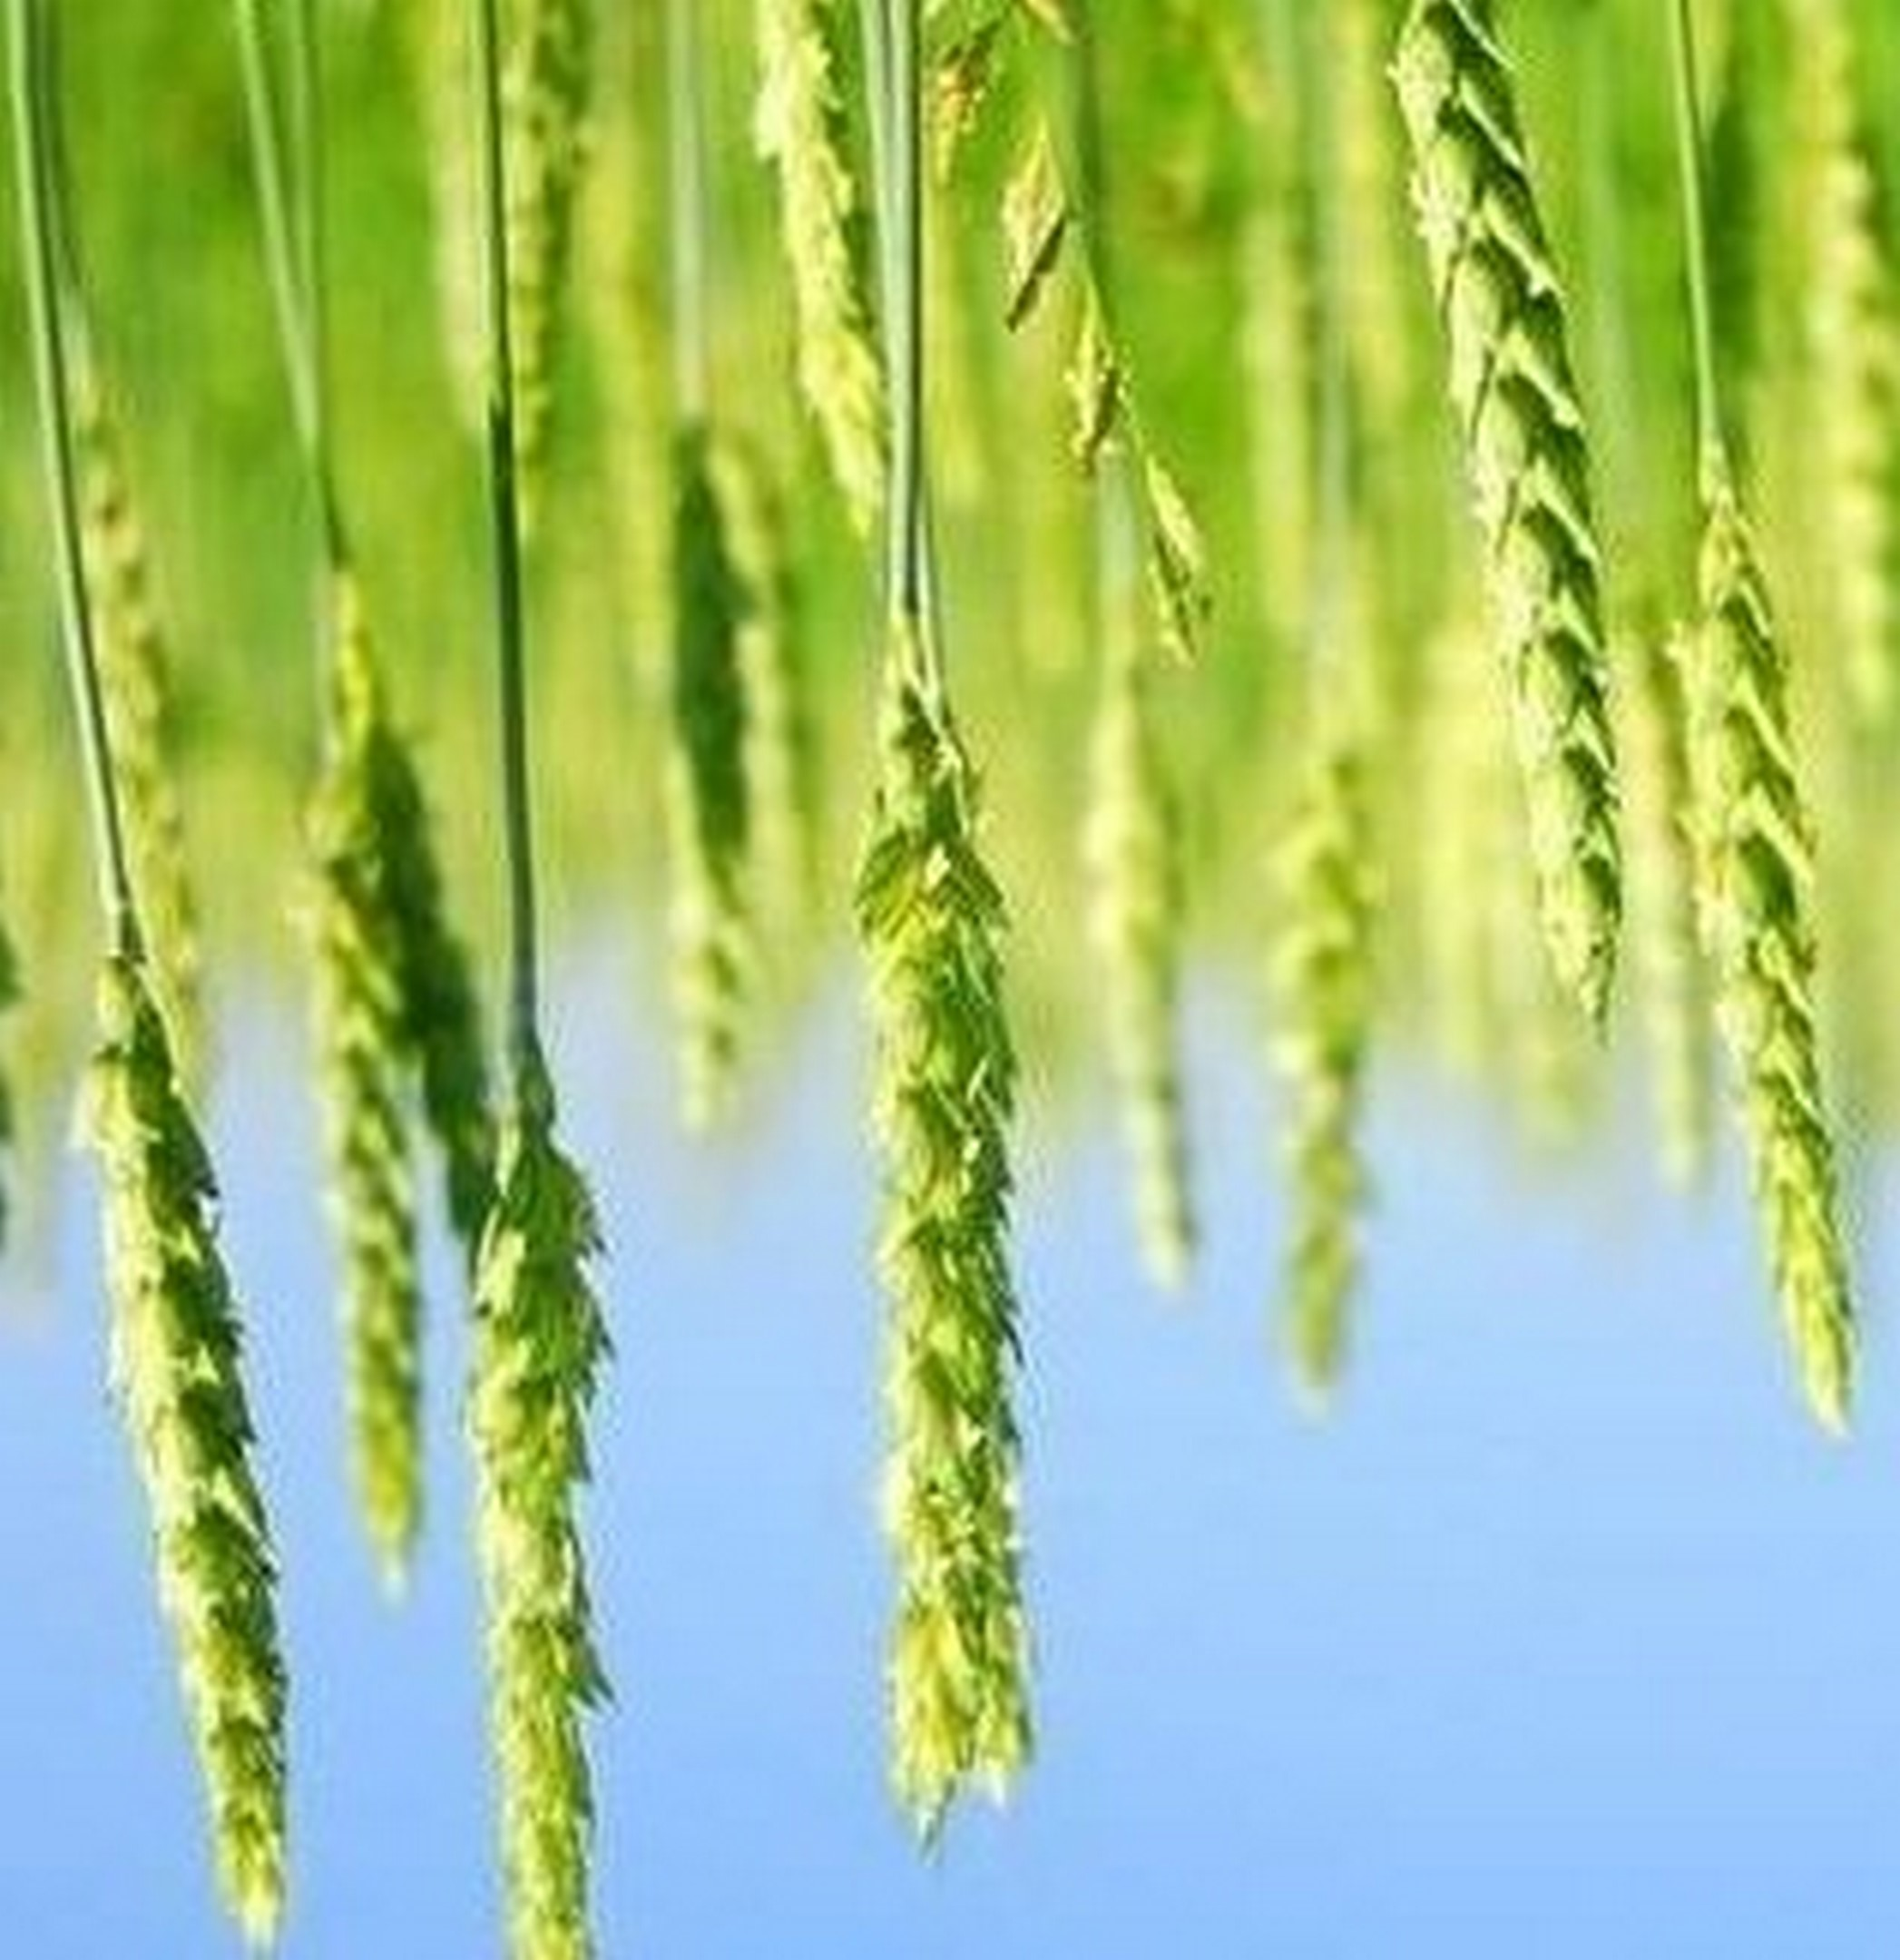Healthy Wheat: (1394, 28, 1671, 1019), (58, 964, 341, 1928)
